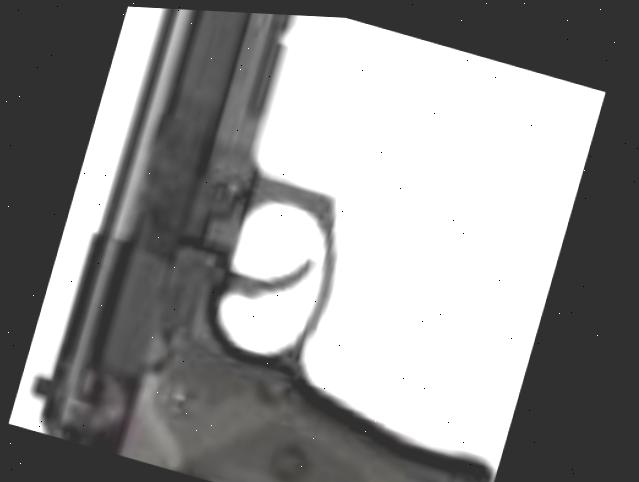pistol: (10, 1, 608, 482)
